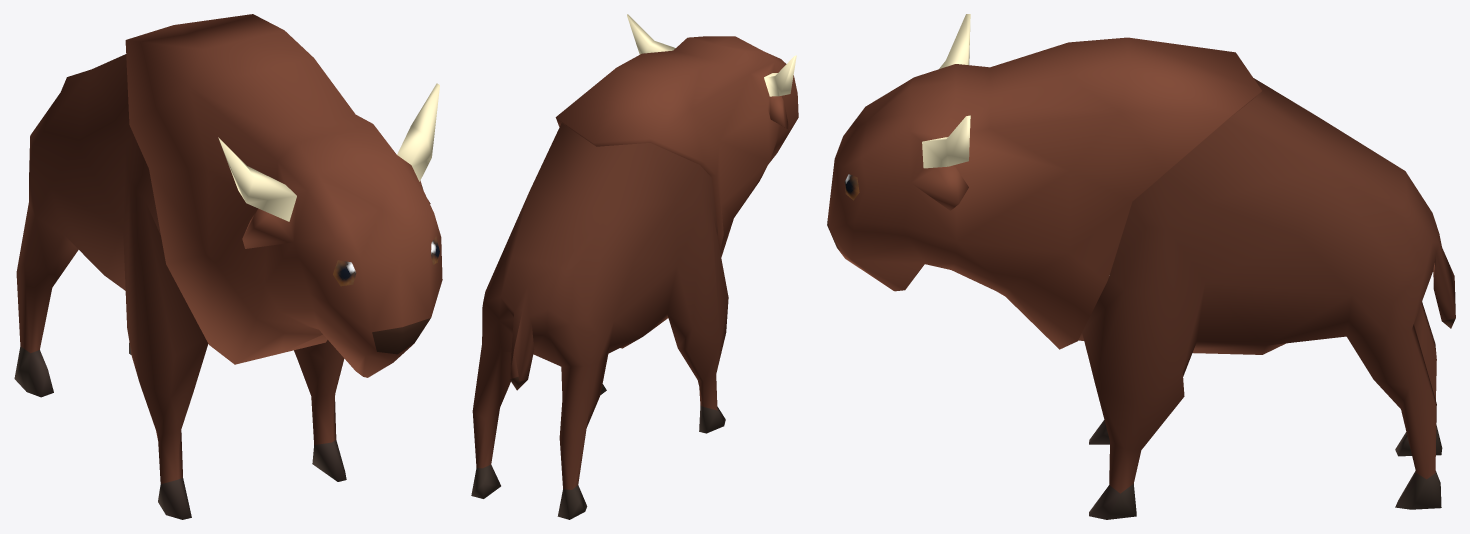
3 views of the same model, side by side, from view 1: azimuth 30°, elevation 25°; view 2: azimuth 150°, elevation 25°; view 3: azimuth 270°, elevation 25° (orthographic). The views are drawn at different scales.
Visible parts, largest first — view 1: Bison; view 2: Bison; view 3: Bison.
Boxes of the visible parts, <box> form: Bison: <box>14,14,442,519</box>; Bison: <box>471,14,798,519</box>; Bison: <box>827,14,1455,519</box>.
Size of what is drawn, in the model's own units: 0.9995 by 1.93 by 2.6.
1 material, 1 textured.
